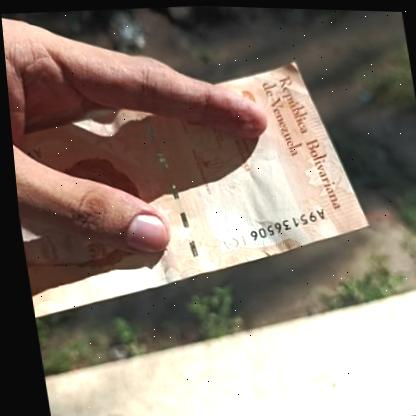twenty-front-vef: (3, 45, 381, 334)
